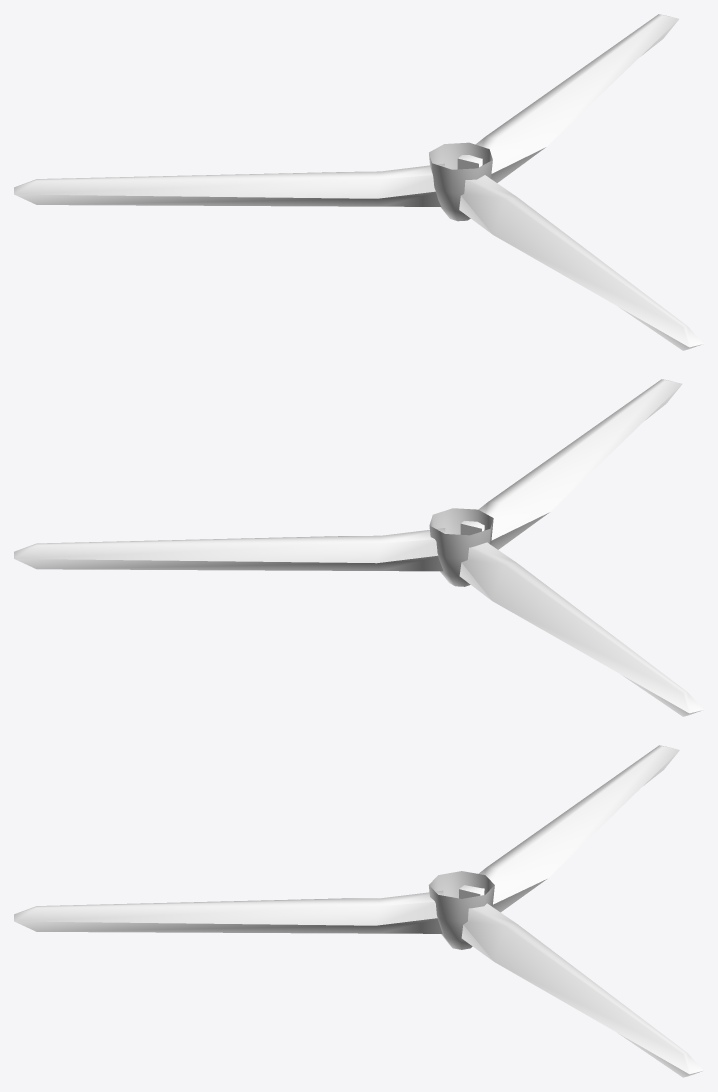
File: windmill_blades.obj
The picture shows the model from 3 angles, top to bottom: view 1: azimuth 30°, elevation 25°; view 2: azimuth 150°, elevation 25°; view 3: azimuth 270°, elevation 25°; orthographic projection.
Parts seen in each view (by area): view 1: windmill_blades; view 2: windmill_blades; view 3: windmill_blades.
Boxes of the visible parts, box(x1,y1,x2,y2) form: windmill_blades: box(14, 14, 703, 350); windmill_blades: box(14, 379, 703, 716); windmill_blades: box(14, 745, 703, 1077).
Bounding box in the file's own units: 7.94 × 0.7259 × 7.03.
